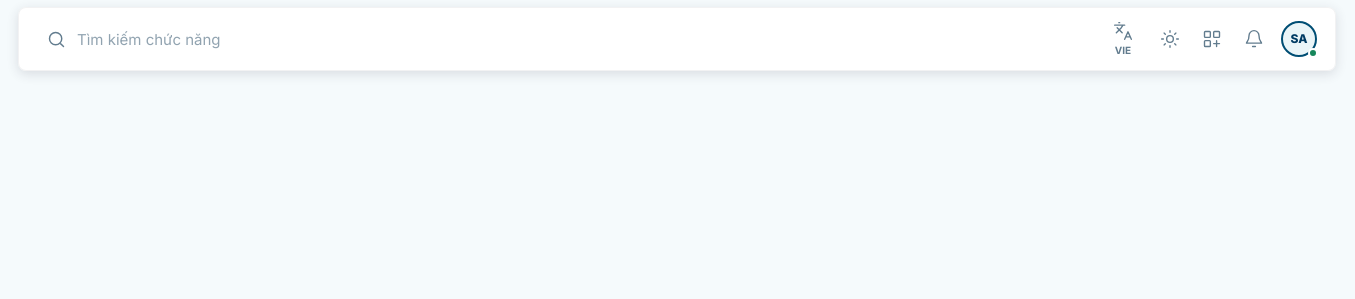
AppTopbar › đổi ngôn ngữ thì đổi chuỗi thật và ghi nhớ lựa chọn
What coordinates should you click on to do the following:
click the button with aria-label "Ngôn ngữ"
I would click on:
 (1123, 39)
Its box is 1099,20 -> 1147,58.
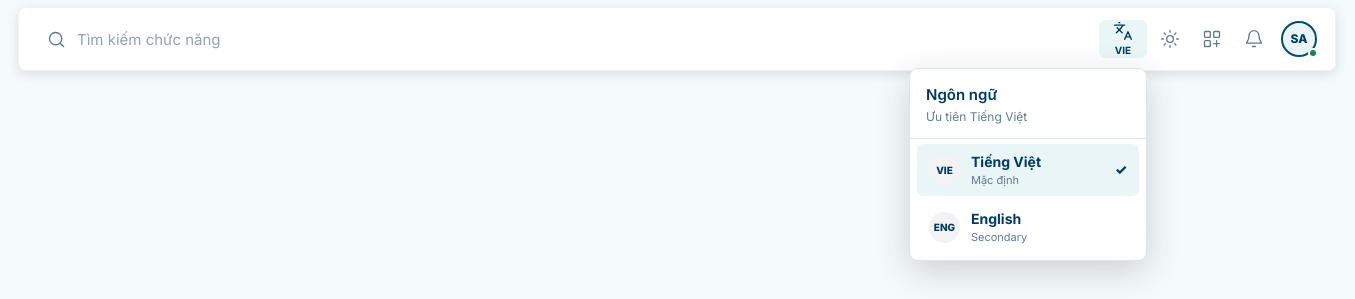
What coordinates should you click on to do the following:
click the menu item "ENG English Secondary"
I would click on:
 (1028, 227)
Its box is 917,201 -> 1139,253.
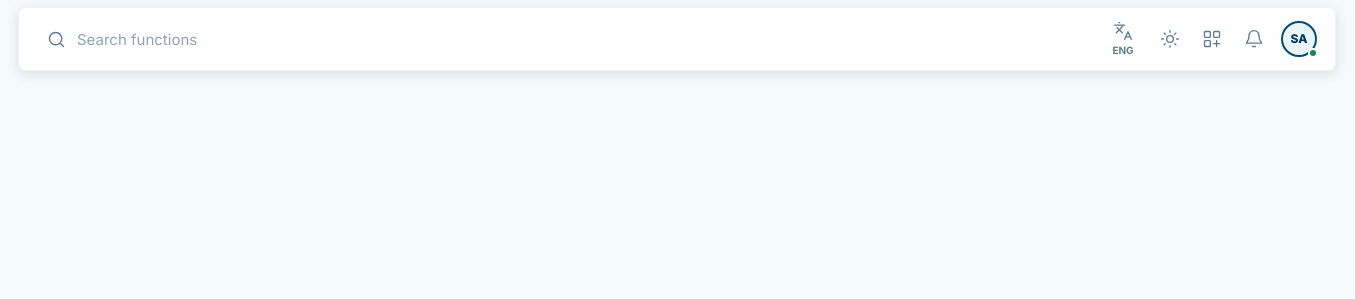
Check: the search field with placeholder "Search functions" is shown, box 77,20 -> 1075,58
